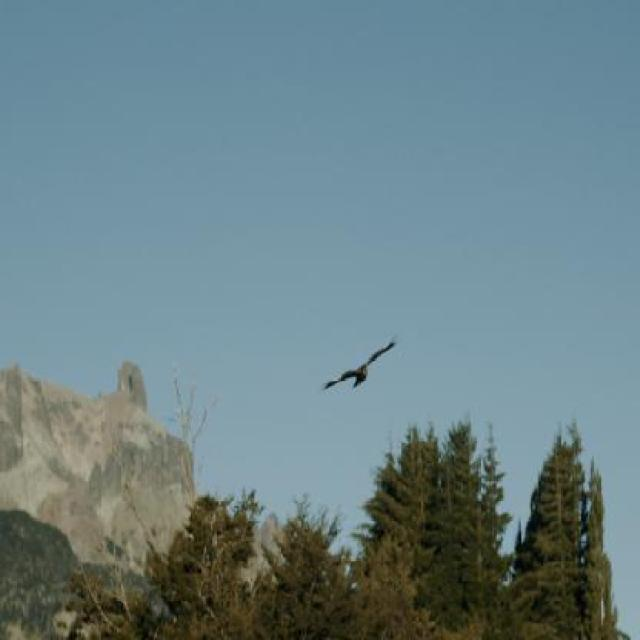bird: (322, 326, 398, 408)
